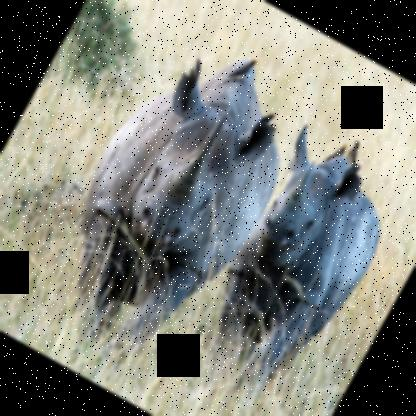Diceros bicornis: (6, 12, 328, 407), (170, 122, 415, 415)
